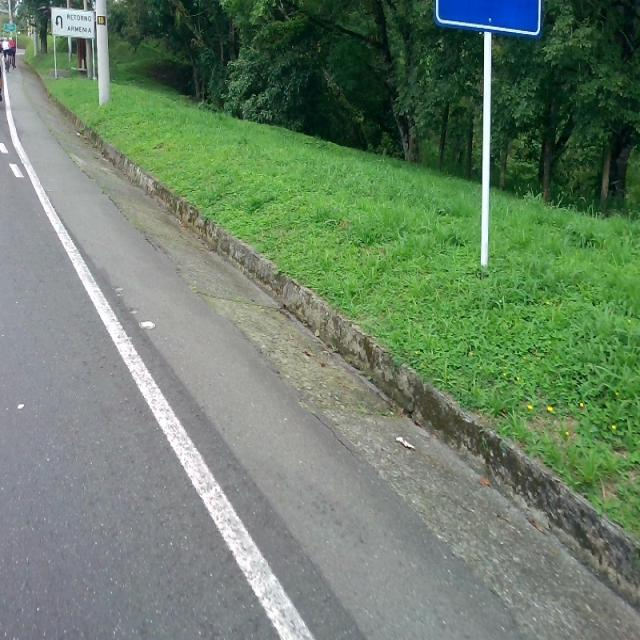DITCH: (15, 45, 638, 638)
